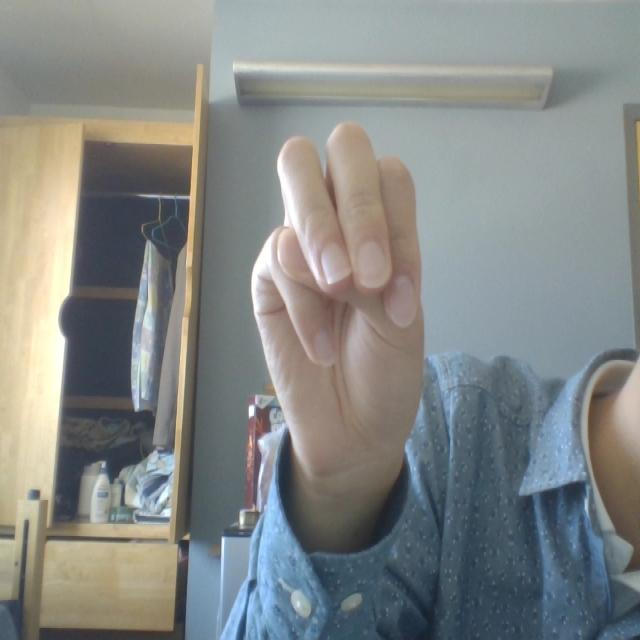M: (221, 112, 474, 516)
